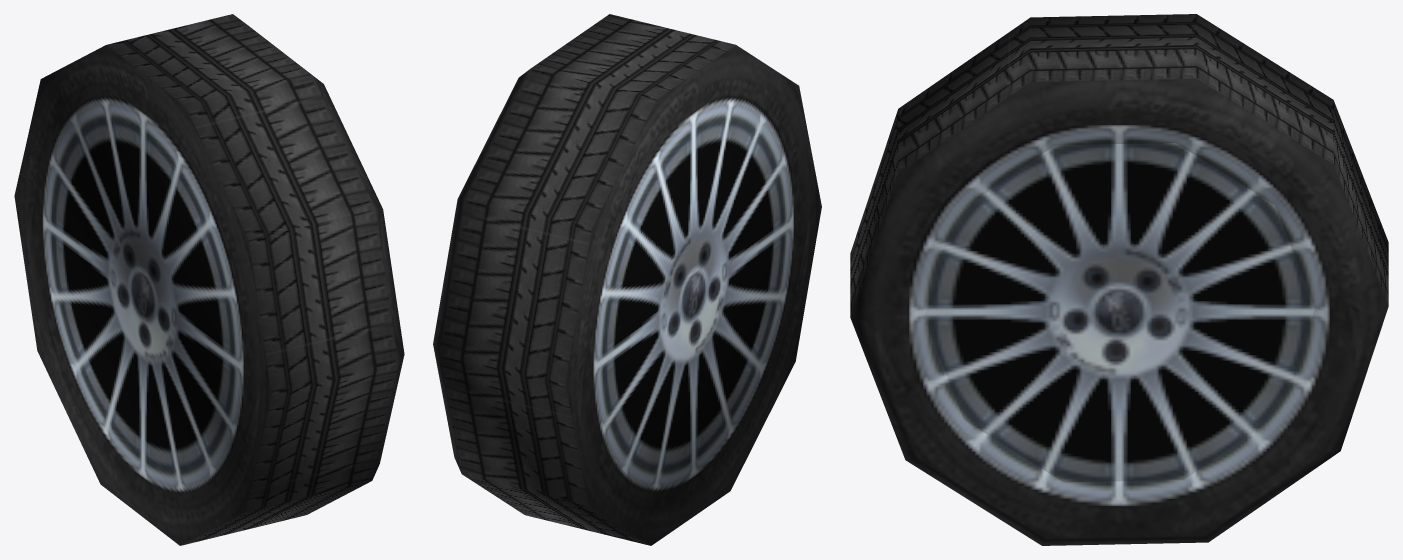
The model's file is WheelModernStreet.FBX.
3 renders of one model, left to right at view 1: azimuth 30°, elevation 25°; view 2: azimuth 150°, elevation 25°; view 3: azimuth 270°, elevation 25°, orthographic. The views are drawn at different scales.
Parts seen in each view (by area): view 1: wheelModernStreet001; view 2: wheelModernStreet001; view 3: wheelModernStreet001.
Boxes of the visible parts, x1,y1,x2,y2 form: wheelModernStreet001: [14, 14, 404, 545]; wheelModernStreet001: [433, 14, 821, 545]; wheelModernStreet001: [850, 14, 1388, 545].
Bounding box in the file's own units: 23.02 × 72.84 × 69.79.
